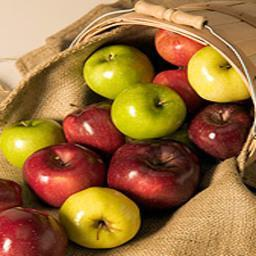apple: (109, 142, 206, 217), (21, 142, 105, 209), (56, 186, 142, 248), (109, 82, 186, 140), (185, 45, 253, 106), (187, 101, 251, 159), (62, 102, 124, 160), (1, 116, 62, 171), (1, 207, 68, 254), (151, 68, 207, 112), (153, 29, 206, 69)
